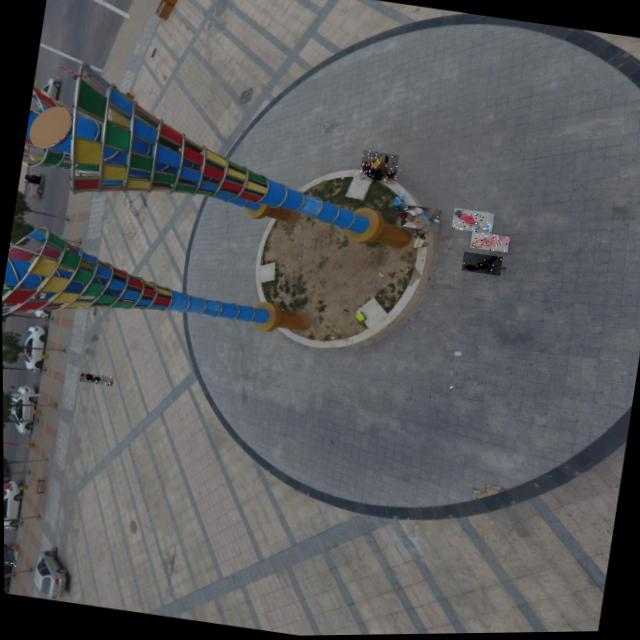Person: (359, 150, 399, 185), (400, 204, 441, 233), (451, 208, 494, 235), (461, 252, 503, 277), (470, 232, 510, 254), (80, 372, 114, 386), (3, 546, 17, 566), (3, 545, 15, 561), (24, 174, 41, 184)
